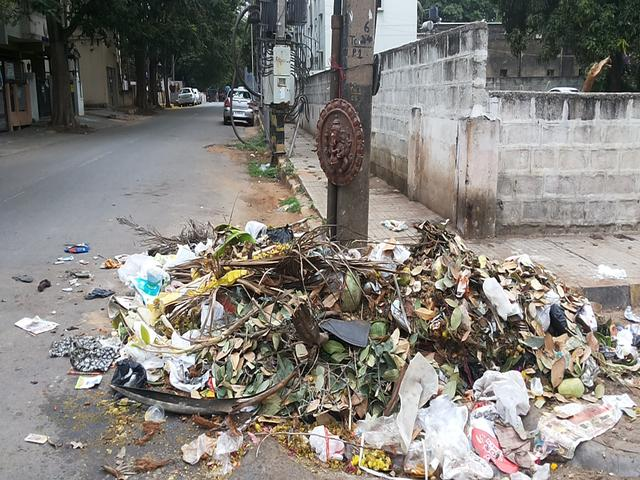garbage: (125, 248, 564, 448)
